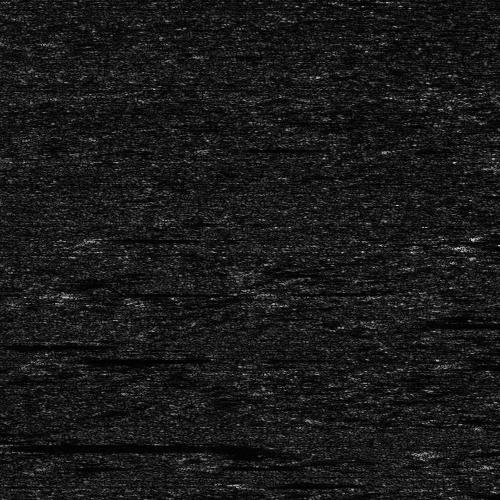rock: (168, 459, 283, 468), (42, 354, 105, 365), (178, 144, 251, 153), (340, 319, 403, 328), (438, 359, 500, 368), (123, 232, 176, 241), (210, 268, 263, 277), (53, 289, 106, 298), (237, 479, 300, 486), (444, 242, 485, 249), (476, 158, 500, 169), (0, 441, 18, 452), (0, 341, 8, 348)
shadow: (0, 441, 241, 452), (80, 289, 249, 298), (74, 354, 211, 365), (372, 319, 500, 328), (237, 268, 347, 277), (215, 144, 323, 153), (150, 232, 255, 241), (269, 479, 381, 486), (226, 459, 300, 468), (0, 341, 79, 348), (465, 242, 500, 249), (475, 359, 500, 368)
